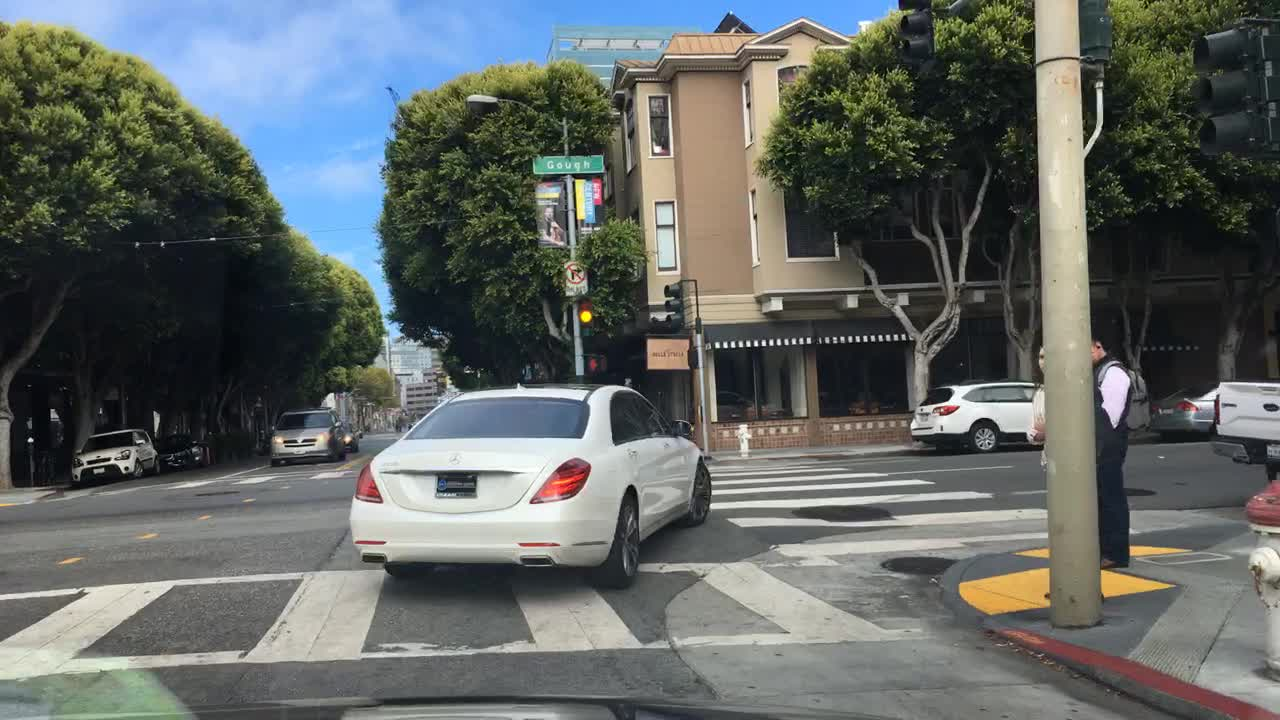car: (347, 380, 710, 589), (908, 381, 1034, 455), (67, 427, 158, 486), (266, 408, 346, 469), (1146, 378, 1220, 442), (153, 430, 211, 471), (341, 422, 361, 452)
person: (1088, 332, 1130, 570), (1022, 341, 1051, 597)
traffic light: (1191, 27, 1259, 155), (897, 0, 935, 61), (660, 280, 681, 334), (585, 351, 609, 373), (577, 299, 592, 326)
traffic sign: (530, 152, 604, 174), (562, 260, 585, 295)
truck: (1213, 378, 1279, 464)
